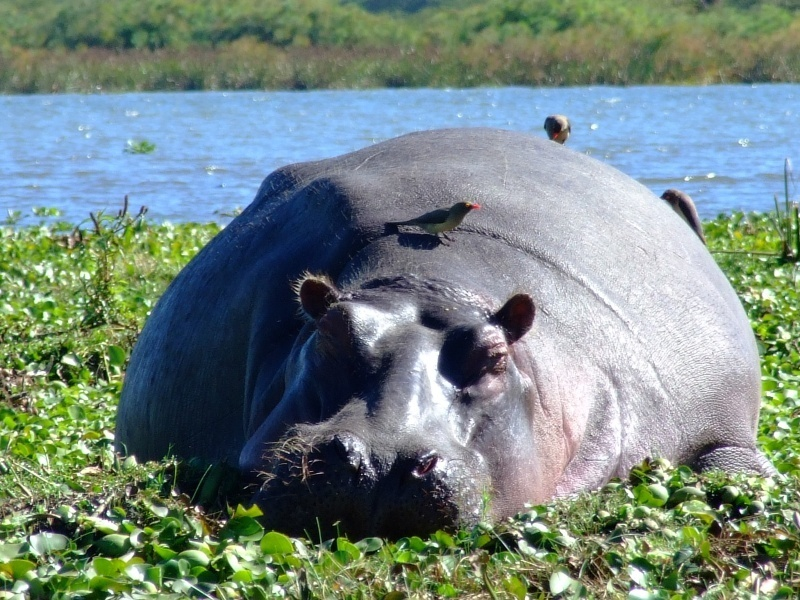hipopotamo: (103, 108, 789, 544)
